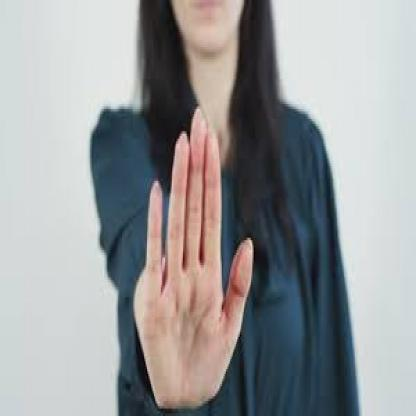stop: (138, 104, 254, 416)
